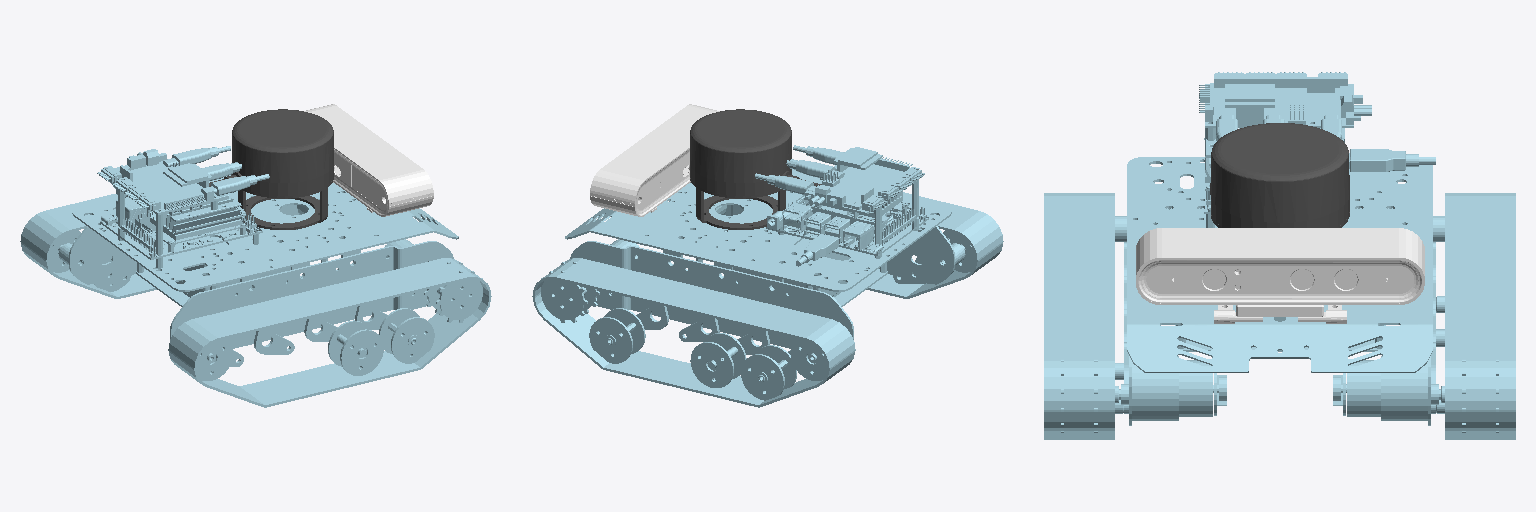
The robot description file, URDF, robot "mini_tank_robot":
<?xml version="1.0" encoding="utf-8"?>
<!-- This URDF was automatically created by SolidWorks to URDF Exporter! Originally created by [author] ([email redacted]) 
     Commit Version: 1.6.0-4-g7f85cfe  Build Version: 1.6.7995.38578
     For more information, please see http://wiki.ros.org/sw_urdf_exporter -->
<robot
  name="mini_tank_robot">
  <link
    name="base_link">
    <inertial>
      <origin
        xyz="0.0128905244105685 -0.000195995781382477 0.0193846775523578"
        rpy="0 0 0" />
      <mass
        value="0.574921488094907" />
      <inertia
        ixx="0.000423393434127285"
        ixy="-1.17503835703154E-06"
        ixz="6.25190950837571E-06"
        iyy="0.00148777610918676"
        iyz="7.39453143150353E-07"
        izz="0.00164565636654265" />
    </inertial>
    <visual>
      <origin
        xyz="0 0 0"
        rpy="0 0 0" />
      <geometry>
        <mesh
          filename="package://wheeltec_robot_urdf/meshes/mini_tank_robot_meshes/base_link.STL" />
      </geometry>
      <material
        name="">
        <color
          rgba="0.741176470588235 0.901960784313726 0.956862745098039 1" />
      </material>
    </visual>
    <collision>
      <origin
        xyz="0 0 0"
        rpy="0 0 0" />
      <geometry>
        <mesh
          filename="package://wheeltec_robot_urdf/meshes/mini_tank_robot_meshes/base_link.STL" />
      </geometry>
    </collision>
  </link>
  <link
    name="left1_link">
    <inertial>
      <origin
        xyz="3.06748764722364E-07 -0.00213348686434228 6.14172601665075E-12"
        rpy="0 0 0" />
      <mass
        value="0.0074113156920016" />
      <inertia
        ixx="5.73195160158944E-07"
        ixy="1.13577866418873E-16"
        ixz="9.11841522939564E-17"
        iyy="1.04521247109603E-06"
        iyz="3.12836673750704E-16"
        izz="5.73195160159056E-07" />
    </inertial>
    <visual>
      <origin
        xyz="0 0 0"
        rpy="0 0 0" />
      <geometry>
        <mesh
          filename="package://wheeltec_robot_urdf/meshes/mini_tank_robot_meshes/left1_link.STL" />
      </geometry>
      <material
        name="">
        <color
          rgba="0.741176470588235 0.901960784313726 0.956862745098039 1" />
      </material>
    </visual>
    <collision>
      <origin
        xyz="0 0 0"
        rpy="0 0 0" />
      <geometry>
        <mesh
          filename="package://wheeltec_robot_urdf/meshes/mini_tank_robot_meshes/left1_link.STL" />
      </geometry>
    </collision>
  </link>
  <joint
    name="left1_joint"
    type="continuous">
    <origin
      xyz="0.115209579465965 0.114103937103155 0.0105000000000004"
      rpy="0 0 0" />
    <parent
      link="base_link" />
    <child
      link="left1_link" />
    <axis
      xyz="0 -1 0" />
  </joint>
  <link
    name="left2_link">
    <inertial>
      <origin
        xyz="-4.7006518005821E-07 -0.00301016528738202 3.65847359865001E-07"
        rpy="0 0 0" />
      <mass
        value="0.00699327949467042" />
      <inertia
        ixx="6.18695554235099E-07"
        ixy="1.07738187626473E-21"
        ixz="-8.21511916779183E-22"
        iyy="8.2442822557663E-07"
        iyz="2.57462808948093E-23"
        izz="6.18695554235081E-07" />
    </inertial>
    <visual>
      <origin
        xyz="0 0 0"
        rpy="0 0 0" />
      <geometry>
        <mesh
          filename="package://wheeltec_robot_urdf/meshes/mini_tank_robot_meshes/left2_link.STL" />
      </geometry>
      <material
        name="">
        <color
          rgba="0.741176470588235 0.901960784313726 0.956862745098039 1" />
      </material>
    </visual>
    <collision>
      <origin
        xyz="0 0 0"
        rpy="0 0 0" />
      <geometry>
        <mesh
          filename="package://wheeltec_robot_urdf/meshes/mini_tank_robot_meshes/left2_link.STL" />
      </geometry>
    </collision>
  </link>
  <joint
    name="left2_joint"
    type="continuous">
    <origin
      xyz="0.0718895794659653 0.114303937103155 -0.0162779999999998"
      rpy="0 0 0" />
    <parent
      link="base_link" />
    <child
      link="left2_link" />
    <axis
      xyz="0 -1 0" />
  </joint>
  <link
    name="left3_link">
    <inertial>
      <origin
        xyz="-4.70065180085966E-07 -0.00301016528738202 3.65847359878879E-07"
        rpy="0 0 0" />
      <mass
        value="0.00699327949467042" />
      <inertia
        ixx="6.18695554235099E-07"
        ixy="1.06267876917068E-21"
        ixz="-8.28990328258098E-22"
        iyy="8.2442822557663E-07"
        iyz="3.08050881078105E-23"
        izz="6.18695554235081E-07" />
    </inertial>
    <visual>
      <origin
        xyz="0 0 0"
        rpy="0 0 0" />
      <geometry>
        <mesh
          filename="package://wheeltec_robot_urdf/meshes/mini_tank_robot_meshes/left3_link.STL" />
      </geometry>
      <material
        name="">
        <color
          rgba="0.741176470588235 0.901960784313726 0.956862745098039 1" />
      </material>
    </visual>
    <collision>
      <origin
        xyz="0 0 0"
        rpy="0 0 0" />
      <geometry>
        <mesh
          filename="package://wheeltec_robot_urdf/meshes/mini_tank_robot_meshes/left3_link.STL" />
      </geometry>
    </collision>
  </link>
  <joint
    name="left3_joint"
    type="continuous">
    <origin
      xyz="0.0268895794659653 0.114303937103156 -0.0162779999999999"
      rpy="0 0 0" />
    <parent
      link="base_link" />
    <child
      link="left3_link" />
    <axis
      xyz="0 -1 0" />
  </joint>
  <link
    name="left4_link">
    <inertial>
      <origin
        xyz="-4.70065180086399E-07 -0.00301016528738203 3.65847359878879E-07"
        rpy="0 0 0" />
      <mass
        value="0.00699327949467042" />
      <inertia
        ixx="6.18695554235099E-07"
        ixy="1.08176532121532E-21"
        ixz="-7.85610925560887E-22"
        iyy="8.2442822557663E-07"
        iyz="2.66565752595823E-23"
        izz="6.18695554235081E-07" />
    </inertial>
    <visual>
      <origin
        xyz="0 0 0"
        rpy="0 0 0" />
      <geometry>
        <mesh
          filename="package://wheeltec_robot_urdf/meshes/mini_tank_robot_meshes/left4_link.STL" />
      </geometry>
      <material
        name="">
        <color
          rgba="0.741176470588235 0.901960784313726 0.956862745098039 1" />
      </material>
    </visual>
    <collision>
      <origin
        xyz="0 0 0"
        rpy="0 0 0" />
      <geometry>
        <mesh
          filename="package://wheeltec_robot_urdf/meshes/mini_tank_robot_meshes/left4_link.STL" />
      </geometry>
    </collision>
  </link>
  <joint
    name="left4_joint"
    type="continuous">
    <origin
      xyz="-0.0181104205340347 0.114303937103156 -0.0162780000000001"
      rpy="0 0 0" />
    <parent
      link="base_link" />
    <child
      link="left4_link" />
    <axis
      xyz="0 -1 0" />
  </joint>
  <link
    name="left5_link">
    <inertial>
      <origin
        xyz="-4.70065180113721E-07 -0.00301016528738204 3.65847359892757E-07"
        rpy="0 0 0" />
      <mass
        value="0.00699327949467042" />
      <inertia
        ixx="6.18695554235099E-07"
        ixy="1.06304060314138E-21"
        ixz="-8.25014469295784E-22"
        iyy="8.2442822557663E-07"
        iyz="3.09537985874378E-23"
        izz="6.18695554235081E-07" />
    </inertial>
    <visual>
      <origin
        xyz="0 0 0"
        rpy="0 0 0" />
      <geometry>
        <mesh
          filename="package://wheeltec_robot_urdf/meshes/mini_tank_robot_meshes/left5_link.STL" />
      </geometry>
      <material
        name="">
        <color
          rgba="0.741176470588235 0.901960784313726 0.956862745098039 1" />
      </material>
    </visual>
    <collision>
      <origin
        xyz="0 0 0"
        rpy="0 0 0" />
      <geometry>
        <mesh
          filename="package://wheeltec_robot_urdf/meshes/mini_tank_robot_meshes/left5_link.STL" />
      </geometry>
    </collision>
  </link>
  <joint
    name="left5_joint"
    type="continuous">
    <origin
      xyz="-0.0631104205340347 0.114303937103156 -0.0162780000000002"
      rpy="0 0 0" />
    <parent
      link="base_link" />
    <child
      link="left5_link" />
    <axis
      xyz="0 -1 0" />
  </joint>
  <link
    name="left6_link">
    <inertial>
      <origin
        xyz="3.06747520051331E-07 -0.00937089235015534 -9.99200722162641E-16"
        rpy="0 0 0" />
      <mass
        value="0.00924268883262038" />
      <inertia
        ixx="8.86085363040395E-07"
        ixy="-1.02900515091316E-22"
        ixz="-7.16356726204334E-21"
        iyy="9.1056684699315E-07"
        iyz="1.93702891960961E-22"
        izz="8.860853630404E-07" />
    </inertial>
    <visual>
      <origin
        xyz="0 0 0"
        rpy="0 0 0" />
      <geometry>
        <mesh
          filename="package://wheeltec_robot_urdf/meshes/mini_tank_robot_meshes/left6_link.STL" />
      </geometry>
      <material
        name="">
        <color
          rgba="0.741176470588235 0.901960784313726 0.956862745098039 1" />
      </material>
    </visual>
    <collision>
      <origin
        xyz="0 0 0"
        rpy="0 0 0" />
      <geometry>
        <mesh
          filename="package://wheeltec_robot_urdf/meshes/mini_tank_robot_meshes/left6_link.STL" />
      </geometry>
    </collision>
  </link>
  <joint
    name="left6_joint"
    type="continuous">
    <origin
      xyz="-0.107290420534035 0.114330937103156 0.0104999999999996"
      rpy="0 0 0" />
    <parent
      link="base_link" />
    <child
      link="left6_link" />
    <axis
      xyz="0 -1 0" />
  </joint>
  <link
    name="right1_link">
    <inertial>
      <origin
        xyz="3.06746499506572E-07 0.00213389422794183 7.18869408444789E-15"
        rpy="0 0 0" />
      <mass
        value="0.00741131569893439" />
      <inertia
        ixx="5.73195160519973E-07"
        ixy="4.93000455556248E-20"
        ixz="-2.25641557656965E-19"
        iyy="1.04521247120078E-06"
        iyz="-2.7363393837576E-19"
        izz="5.73195160520109E-07" />
    </inertial>
    <visual>
      <origin
        xyz="0 0 0"
        rpy="0 0 0" />
      <geometry>
        <mesh
          filename="package://wheeltec_robot_urdf/meshes/mini_tank_robot_meshes/right1_link.STL" />
      </geometry>
      <material
        name="">
        <color
          rgba="0.741176470588235 0.901960784313726 0.956862745098039 1" />
      </material>
    </visual>
    <collision>
      <origin
        xyz="0 0 0"
        rpy="0 0 0" />
      <geometry>
        <mesh
          filename="package://wheeltec_robot_urdf/meshes/mini_tank_robot_meshes/right1_link.STL" />
      </geometry>
    </collision>
  </link>
  <joint
    name="right1_joint"
    type="continuous">
    <origin
      xyz="0.115209579465964 -0.114354062896845 0.0105000000000004"
      rpy="0 0 0" />
    <parent
      link="base_link" />
    <child
      link="right1_link" />
    <axis
      xyz="0 -1 0" />
  </joint>
  <link
    name="right2_link">
    <inertial>
      <origin
        xyz="-4.70065201915726E-07 0.00301057263355201 3.65847360073168E-07"
        rpy="0 0 0" />
      <mass
        value="0.00699327949467047" />
      <inertia
        ixx="6.18695554235081E-07"
        ixy="5.17793472673871E-22"
        ixz="-4.60072570502997E-21"
        iyy="8.24428225576623E-07"
        iyz="5.10796238718426E-22"
        izz="6.18695554235096E-07" />
    </inertial>
    <visual>
      <origin
        xyz="0 0 0"
        rpy="0 0 0" />
      <geometry>
        <mesh
          filename="package://wheeltec_robot_urdf/meshes/mini_tank_robot_meshes/right2_link.STL" />
      </geometry>
      <material
        name="">
        <color
          rgba="0.741176470588235 0.901960784313726 0.956862745098039 1" />
      </material>
    </visual>
    <collision>
      <origin
        xyz="0 0 0"
        rpy="0 0 0" />
      <geometry>
        <mesh
          filename="package://wheeltec_robot_urdf/meshes/mini_tank_robot_meshes/right2_link.STL" />
      </geometry>
    </collision>
  </link>
  <joint
    name="right2_joint"
    type="continuous">
    <origin
      xyz="0.0718895794659645 -0.114554062896845 -0.0162779999999998"
      rpy="0 0 0" />
    <parent
      link="base_link" />
    <child
      link="right2_link" />
    <axis
      xyz="0 -1 0" />
  </joint>
  <link
    name="right3_link">
    <inertial>
      <origin
        xyz="-4.70065201915726E-07 0.00301057263355199 3.6584736005929E-07"
        rpy="0 0 0" />
      <mass
        value="0.00699327949467047" />
      <inertia
        ixx="6.18695554235081E-07"
        ixy="4.81696304054394E-22"
        ixz="-4.66345474954667E-21"
        iyy="8.24428225576623E-07"
        iyz="5.13001518486473E-22"
        izz="6.18695554235096E-07" />
    </inertial>
    <visual>
      <origin
        xyz="0 0 0"
        rpy="0 0 0" />
      <geometry>
        <mesh
          filename="package://wheeltec_robot_urdf/meshes/mini_tank_robot_meshes/right3_link.STL" />
      </geometry>
      <material
        name="">
        <color
          rgba="0.741176470588235 0.901960784313726 0.956862745098039 1" />
      </material>
    </visual>
    <collision>
      <origin
        xyz="0 0 0"
        rpy="0 0 0" />
      <geometry>
        <mesh
          filename="package://wheeltec_robot_urdf/meshes/mini_tank_robot_meshes/right3_link.STL" />
      </geometry>
    </collision>
  </link>
  <joint
    name="right3_joint"
    type="continuous">
    <origin
      xyz="0.0268895794659645 -0.114554062896844 -0.0162779999999999"
      rpy="0 0 0" />
    <parent
      link="base_link" />
    <child
      link="right3_link" />
    <axis
      xyz="0 -1 0" />
  </joint>
  <link
    name="right4_link">
    <inertial>
      <origin
        xyz="-4.70065201911389E-07 0.00301057263355201 3.65847360073168E-07"
        rpy="0 0 0" />
      <mass
        value="0.00699327949467047" />
      <inertia
        ixx="6.18695554235081E-07"
        ixy="4.91117348972633E-22"
        ixz="-4.68580122829633E-21"
        iyy="8.24428225576623E-07"
        iyz="5.1332290816217E-22"
        izz="6.18695554235096E-07" />
    </inertial>
    <visual>
      <origin
        xyz="0 0 0"
        rpy="0 0 0" />
      <geometry>
        <mesh
          filename="package://wheeltec_robot_urdf/meshes/mini_tank_robot_meshes/right4_link.STL" />
      </geometry>
      <material
        name="">
        <color
          rgba="0.741176470588235 0.901960784313726 0.956862745098039 1" />
      </material>
    </visual>
    <collision>
      <origin
        xyz="0 0 0"
        rpy="0 0 0" />
      <geometry>
        <mesh
          filename="package://wheeltec_robot_urdf/meshes/mini_tank_robot_meshes/right4_link.STL" />
      </geometry>
    </collision>
  </link>
  <joint
    name="right4_joint"
    type="continuous">
    <origin
      xyz="-0.0181104205340355 -0.114554062896844 -0.0162780000000001"
      rpy="0 0 0" />
    <parent
      link="base_link" />
    <child
      link="right4_link" />
    <axis
      xyz="0 -1 0" />
  </joint>
  <link
    name="right5_link">
    <inertial>
      <origin
        xyz="-4.70065201915726E-07 0.00301057263355201 3.65847360045413E-07"
        rpy="0 0 0" />
      <mass
        value="0.00699327949467047" />
      <inertia
        ixx="6.18695554235081E-07"
        ixy="4.82124110941319E-22"
        ixz="-4.66614166616711E-21"
        iyy="8.24428225576623E-07"
        iyz="5.13041652399048E-22"
        izz="6.18695554235096E-07" />
    </inertial>
    <visual>
      <origin
        xyz="0 0 0"
        rpy="0 0 0" />
      <geometry>
        <mesh
          filename="package://wheeltec_robot_urdf/meshes/mini_tank_robot_meshes/right5_link.STL" />
      </geometry>
      <material
        name="">
        <color
          rgba="0.741176470588235 0.901960784313726 0.956862745098039 1" />
      </material>
    </visual>
    <collision>
      <origin
        xyz="0 0 0"
        rpy="0 0 0" />
      <geometry>
        <mesh
          filename="package://wheeltec_robot_urdf/meshes/mini_tank_robot_meshes/right5_link.STL" />
      </geometry>
    </collision>
  </link>
  <joint
    name="right5_joint"
    type="continuous">
    <origin
      xyz="-0.0631104205340355 -0.114554062896844 -0.0162780000000002"
      rpy="0 0 0" />
    <parent
      link="base_link" />
    <child
      link="right5_link" />
    <axis
      xyz="0 -1 0" />
  </joint>
  <link
    name="right6_link">
    <inertial>
      <origin
        xyz="3.06747497971771E-07 0.00934429969632529 -1.01307850997046E-15"
        rpy="0 0 0" />
      <mass
        value="0.00924268883262041" />
      <inertia
        ixx="8.86085363040392E-07"
        ixy="-1.29966977105077E-22"
        ixz="7.10452823469724E-21"
        iyy="9.10566846993142E-07"
        iyz="-4.97500351432474E-22"
        izz="8.86085363040397E-07" />
    </inertial>
    <visual>
      <origin
        xyz="0 0 0"
        rpy="0 0 0" />
      <geometry>
        <mesh
          filename="package://wheeltec_robot_urdf/meshes/mini_tank_robot_meshes/right6_link.STL" />
      </geometry>
      <material
        name="">
        <color
          rgba="0.741176470588235 0.901960784313726 0.956862745098039 1" />
      </material>
    </visual>
    <collision>
      <origin
        xyz="0 0 0"
        rpy="0 0 0" />
      <geometry>
        <mesh
          filename="package://wheeltec_robot_urdf/meshes/mini_tank_robot_meshes/right6_link.STL" />
      </geometry>
    </collision>
  </link>
  <joint
    name="right6_joint"
    type="continuous">
    <origin
      xyz="-0.107290420534036 -0.114554062896844 0.0104999999999996"
      rpy="0 0 0" />
    <parent
      link="base_link" />
    <child
      link="right6_link" />
    <axis
      xyz="0 1 0" />
  </joint>
  <link
    name="controller_link">
    <inertial>
      <origin
        xyz="-0.0513531699176346 0.0474963429876353 0.0444073306956664"
        rpy="0 0 0" />
      <mass
        value="0.0335306890026227" />
      <inertia
        ixx="1.91764077163967E-05"
        ixy="9.52727501026474E-07"
        ixz="-5.84384705103716E-08"
        iyy="2.19811763093923E-05"
        iyz="3.14216738930506E-07"
        izz="4.00893380787535E-05" />
    </inertial>
    <visual>
      <origin
        xyz="0 0 0"
        rpy="0 0 0" />
      <geometry>
        <mesh
          filename="package://wheeltec_robot_urdf/meshes/mini_tank_robot_meshes/controller_link.STL" />
      </geometry>
      <material
        name="">
        <color
          rgba="0.741176470588235 0.901960784313726 0.956862745098039 1" />
      </material>
    </visual>
    <collision>
      <origin
        xyz="0 0 0"
        rpy="0 0 0" />
      <geometry>
        <mesh
          filename="package://wheeltec_robot_urdf/meshes/mini_tank_robot_meshes/controller_link.STL" />
      </geometry>
    </collision>
  </link>
  <joint
    name="controller_joint"
    type="fixed">
    <origin
      xyz="-0.0164901137856975 -0.0408819685155004 0.0529999999999999"
      rpy="0 0 0" />
    <parent
      link="base_link" />
    <child
      link="controller_link" />
    <axis
      xyz="0 0 0" />
  </joint>
  <link
    name="laser_link">
    <inertial>
      <origin
        xyz="0.00196458631178771 -3.57895547458402E-06 -0.000201831632454477"
        rpy="0 0 0" />
      <mass
        value="0.0477519163736199" />
      <inertia
        ixx="3.3846199975311E-05"
        ixy="-2.19897275821729E-09"
        ixz="1.07118468728324E-06"
        iyy="3.94150415871901E-05"
        iyz="6.83977516021848E-10"
        izz="5.6078704211623E-05" />
    </inertial>
    <visual>
      <origin
        xyz="0 0 0"
        rpy="0 0 0" />
      <geometry>
        <mesh
          filename="package://wheeltec_robot_urdf/meshes/mini_tank_robot_meshes/laser.STL" />
      </geometry>
      <material
        name="">
        <color
          rgba="0.376470588235294 0.376470588235294 0.376470588235294 1" />
      </material>
    </visual>
    <collision>
      <origin
        xyz="0 0 0"
        rpy="0 0 0" />
      <geometry>
        <mesh
          filename="package://wheeltec_robot_urdf/meshes/mini_tank_robot_meshes/laser.STL" />
      </geometry>
    </collision>
  </link>
  <joint
    name="laser_joint"
    type="fixed">
    <origin
      xyz="0.0279882295123445 -5.40628963424597E-05 0.0960241837414311"
      rpy="0 0 3.14159265358979" />
    <parent
      link="base_link" />
    <child
      link="laser_link" />
    <axis
      xyz="0 0 0" />
  </joint>
  <link
    name="camera_link">
    <inertial>
      <origin
        xyz="3.44861243228856E-07 -3.53615125388778E-07 1.0762423209229E-07"
        rpy="0 0 0" />
      <mass
        value="0.0559842512079739" />
      <inertia
        ixx="0.000130810959339083"
        ixy="1.20255128181849E-07"
        ixz="1.62335437080425E-06"
        iyy="1.91148634967818E-05"
        iyz="-2.80016755975718E-08"
        izz="0.000131387469522893" />
    </inertial>
    <visual>
      <origin
        xyz="0 0 0"
        rpy="0 0 0" />
      <geometry>
        <mesh
          filename="package://wheeltec_robot_urdf/meshes/mini_tank_robot_meshes/camera_link.STL" />
      </geometry>
      <material
        name="">
        <color
          rgba="1 1 1 1" />
      </material>
    </visual>
    <collision>
      <origin
        xyz="0 0 0"
        rpy="0 0 0" />
      <geometry>
        <mesh
          filename="package://wheeltec_robot_urdf/meshes/mini_tank_robot_meshes/camera_link.STL" />
      </geometry>
    </collision>
  </link>
  <joint
    name="camera_joint"
    type="fixed">
    <origin
      xyz="0.0967325794659646 0.000123937103155321 0.0777040000000003"
      rpy="0 0 0" />
    <parent
      link="base_link" />
    <child
      link="camera_link" />
    <axis
      xyz="0 0 0" />
  </joint>
</robot>

--- Render facts (derived) ---
Views: 3 orthographic renders of the robot side by side, from view 1: azimuth 30°, elevation 25°; view 2: azimuth 150°, elevation 25°; view 3: azimuth 270°, elevation 25°.
Model mini_tank_robot with 16 links and 15 joints (12 continuous, 3 fixed), rooted at base_link, posed all joints at 0.
Links seen in each view (by area): view 1: base_link, controller_link, laser_link, camera_link, right3_link, right2_link, right1_link, right6_link, left6_link; view 2: base_link, controller_link, laser_link, camera_link, left2_link, left4_link, left5_link, left1_link, left6_link, right6_link; view 3: base_link, camera_link, laser_link, controller_link.
Boxes of the visible links, x1,y1,x2,y2 form: base_link: [20, 175, 491, 407]; controller_link: [97, 146, 269, 268]; laser_link: [209, 109, 333, 229]; camera_link: [304, 104, 433, 216]; right3_link: [328, 320, 383, 375]; right2_link: [379, 308, 434, 363]; right1_link: [424, 262, 482, 322]; right6_link: [197, 339, 232, 380]; left6_link: [49, 230, 82, 272]; base_link: [532, 169, 1003, 407]; controller_link: [755, 145, 928, 266]; laser_link: [690, 109, 821, 229]; camera_link: [590, 104, 719, 216]; left2_link: [589, 308, 645, 363]; left4_link: [690, 333, 746, 387]; left5_link: [741, 345, 796, 400]; left1_link: [541, 262, 599, 322]; left6_link: [791, 339, 826, 380]; right6_link: [941, 230, 974, 272]; base_link: [1044, 157, 1515, 439]; camera_link: [1136, 228, 1424, 323]; laser_link: [1210, 123, 1349, 227]; controller_link: [1199, 72, 1435, 227].
Size in the robot's own frame: 0.2689 by 0.2681 by 0.1614 metres.
13 mesh visuals loaded from 16 distinct referenced files (13 binary STL); not drawn: 3 (reference not matched to a file when rendering).